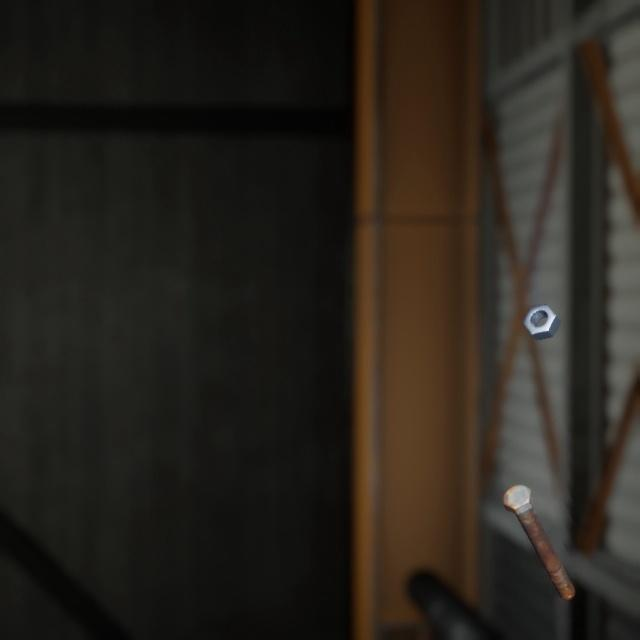bolt: (498, 456, 579, 583)
nut: (518, 281, 565, 326)
